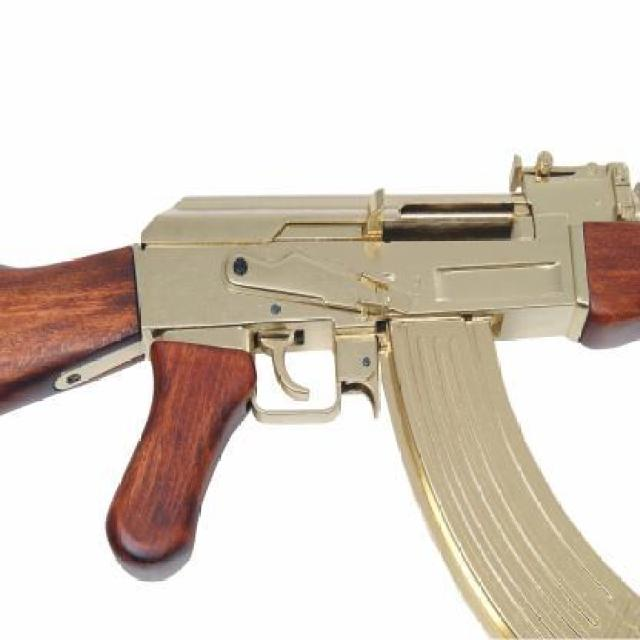weapon: (4, 142, 640, 640)
